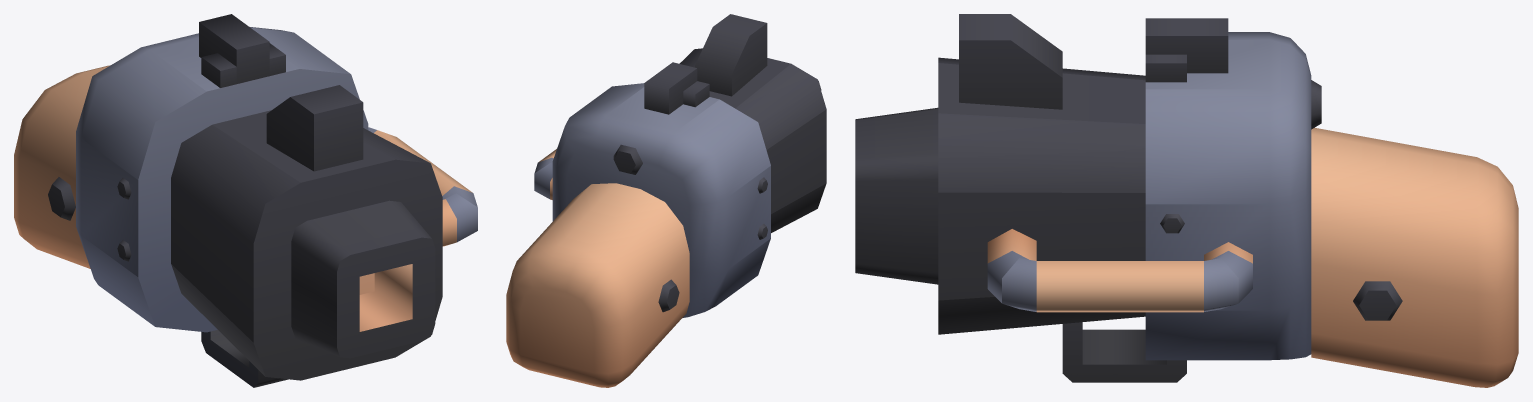
Rendered from blaster.glb.
The picture shows the model from 3 angles, left to right: view 1: azimuth 30°, elevation 25°; view 2: azimuth 150°, elevation 25°; view 3: azimuth 270°, elevation 25°; orthographic projection. The views are drawn at different scales.
Parts seen in each view (by area): view 1: blaster; view 2: blaster; view 3: blaster.
Boxes of the visible parts, box(x1,y1,x2,y2) form: blaster: box(14, 14, 477, 387); blaster: box(506, 14, 826, 387); blaster: box(855, 14, 1518, 387).
Size of the model in its own units: 0.8803 by 0.9 by 1.6.
Materials: 1 (1 with a texture image).
